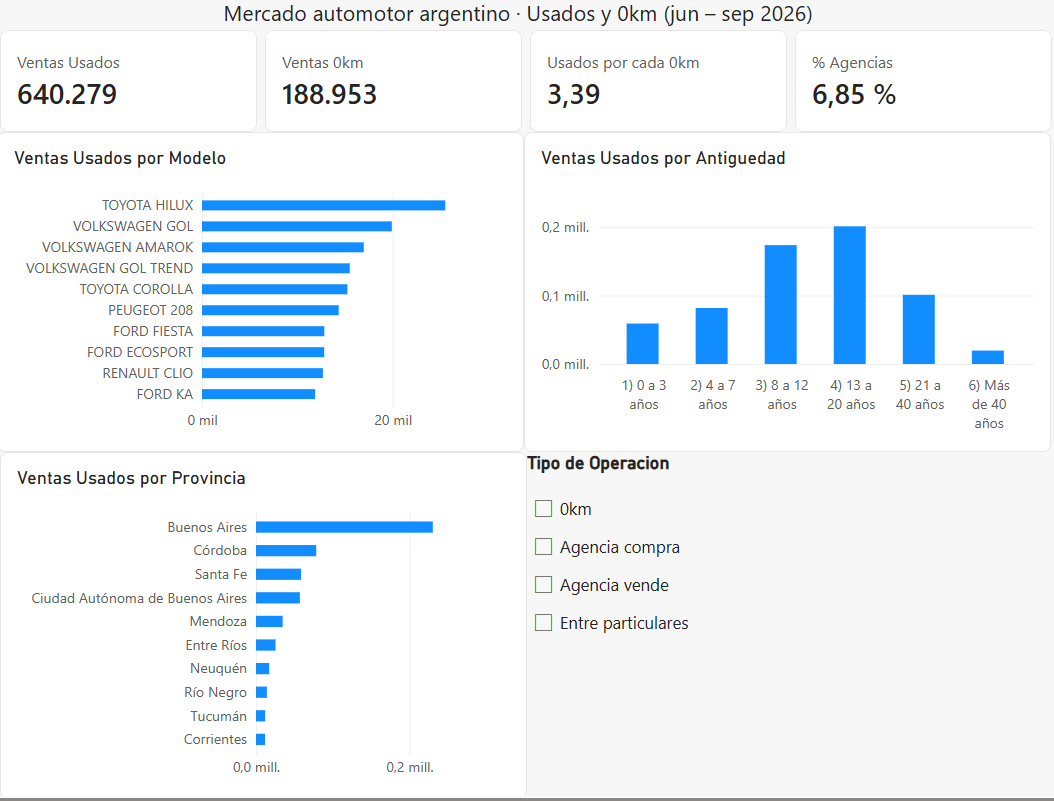

The dashboard page shown, as its layout file describes it:
{"tool":"powerbi","page":{"name":"Página 1","canvas":[1920,1080],"ordinal":0},"visuals":[{"type":"cardVisual","fields":{"Data":["mercado_limpio.Usados (texto)","mercado_limpio.0km (texto)","mercado_limpio.Usados por cada 0km","mercado_limpio.% Agencias"]},"box":[3,32,1054,102],"z":0},{"type":"clusteredBarChart","title":"Ventas Usados por Modelo","fields":{"Category":["mercado_limpio.marca_modelo"],"Y":["mercado_limpio.Ventas Usados"]},"box":[0,134,527,320],"z":1000},{"type":"clusteredColumnChart","title":"Ventas Usados por Antiguedad","fields":{"Category":["mercado_limpio.rango_antiguedad"],"Y":["mercado_limpio.Ventas Usados"]},"box":[527,134,527,320],"z":2000},{"type":"clusteredBarChart","title":"Ventas Usados por Provincia","fields":{"Category":["mercado_limpio.provincia"],"Y":["mercado_limpio.Ventas Usados"]},"box":[3,454,527,347],"z":2001},{"type":"slicer","title":"Tipo de Operacion","fields":{"Values":["mercado_limpio.tipo_operacion"]},"box":[530,454,527,347],"z":2002},{"type":"textbox","box":[0,0,1051,36],"z":2003}]}

Visuals, with their boxes on the page's 1920x1080 design canvas (x1, y1, x2, y2). These are canvas units, not pixel positions in the 1054x801 screenshot, which may show the page scaled, cropped or inside an application window:
cardVisual - mercado_limpio.Usados (texto) x mercado_limpio.0km (texto): (3, 32, 1057, 134)
"Ventas Usados por Modelo" clusteredBarChart: (0, 134, 527, 454)
"Ventas Usados por Antiguedad" clusteredColumnChart: (527, 134, 1054, 454)
"Ventas Usados por Provincia" clusteredBarChart: (3, 454, 530, 801)
"Tipo de Operacion" slicer: (530, 454, 1057, 801)
textbox: (0, 0, 1051, 36)
